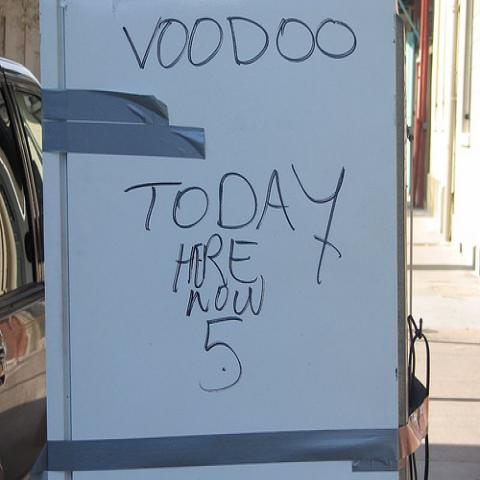car: (0, 57, 49, 479)
